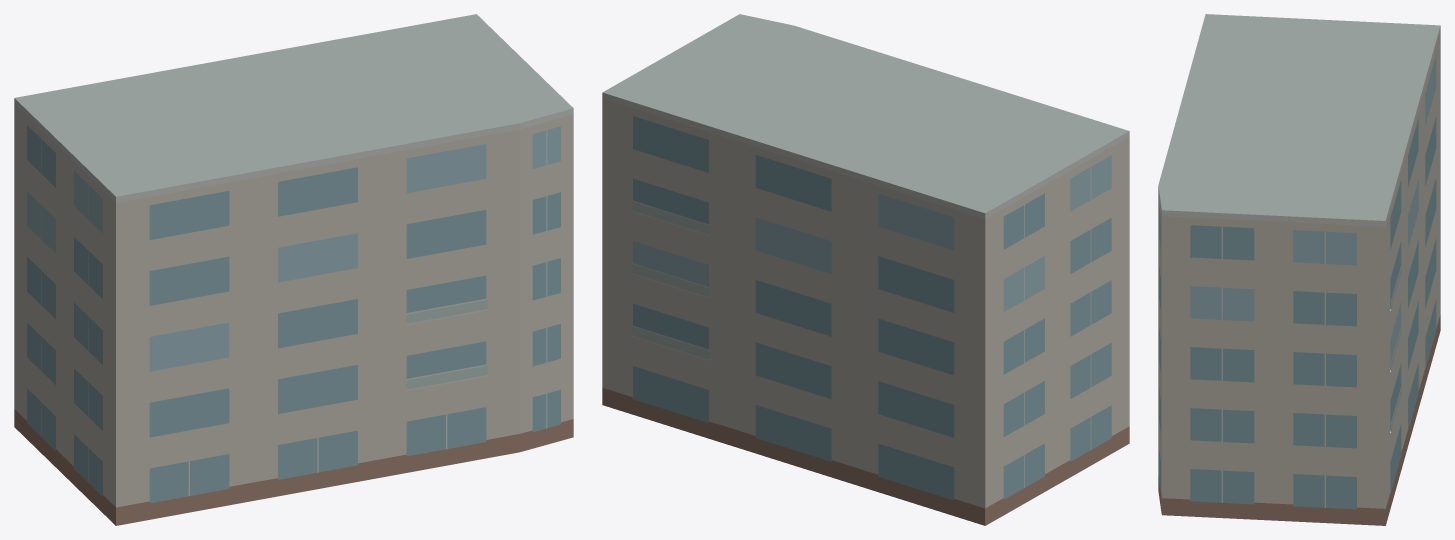
File: survey-upis-32636385.glb
3 views of the same model, side by side, from view 1: azimuth 30°, elevation 25°; view 2: azimuth 150°, elevation 25°; view 3: azimuth 270°, elevation 25° (orthographic). The views are drawn at different scales.
Visible parts, largest first — view 1: survey-upis-32636385.tmp; view 2: survey-upis-32636385.tmp; view 3: survey-upis-32636385.tmp.
Boxes of the visible parts, box(x1,y1,x2,y2) form: survey-upis-32636385.tmp: box(14, 14, 573, 525); survey-upis-32636385.tmp: box(602, 14, 1129, 525); survey-upis-32636385.tmp: box(1158, 14, 1440, 525).
Size of the model in its own units: 19.08 by 13.1 by 11.
